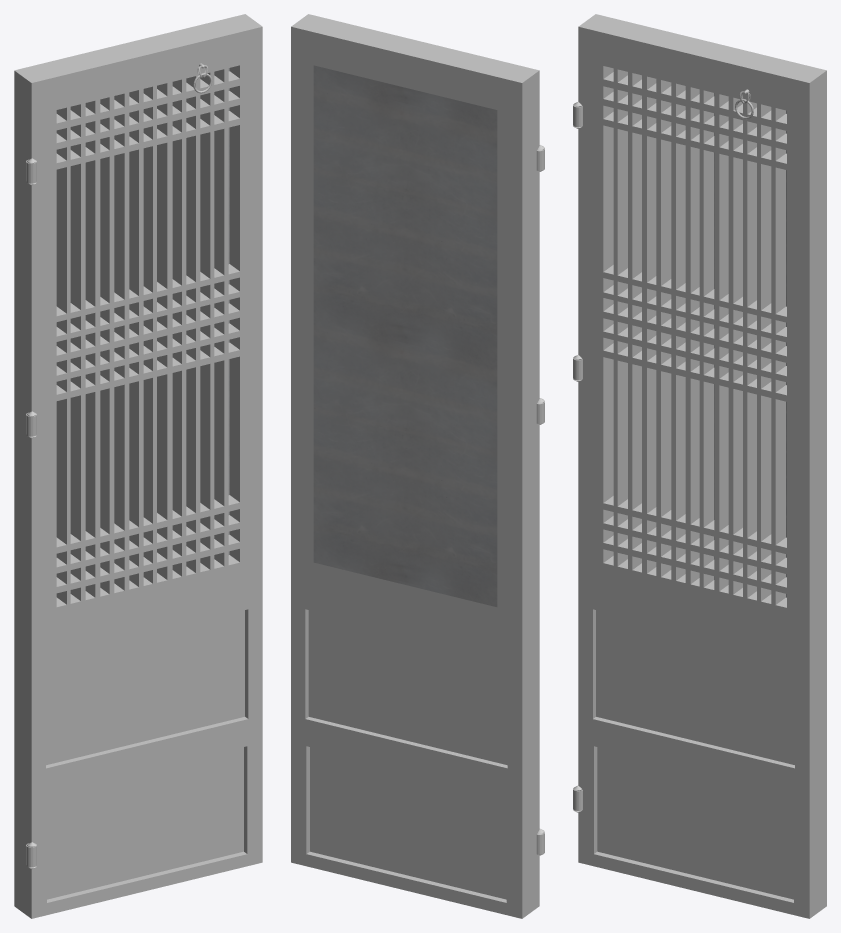
The model's file is SM_D_Wood_8.FBX.
The picture shows the model from 3 angles, left to right: view 1: azimuth 30°, elevation 25°; view 2: azimuth 150°, elevation 25°; view 3: azimuth 330°, elevation 25°; orthographic projection.
Parts seen in each view (by area): view 1: SM_D_Wood_8; view 2: SM_D_Wood_8; view 3: SM_D_Wood_8.
Part boxes in pixels (box(x1,y1,x2,y2)): SM_D_Wood_8: box(14, 14, 262, 918); SM_D_Wood_8: box(291, 14, 544, 918); SM_D_Wood_8: box(573, 14, 826, 918).
Bounding box in the file's own units: 81.71 × 12.43 × 277.
